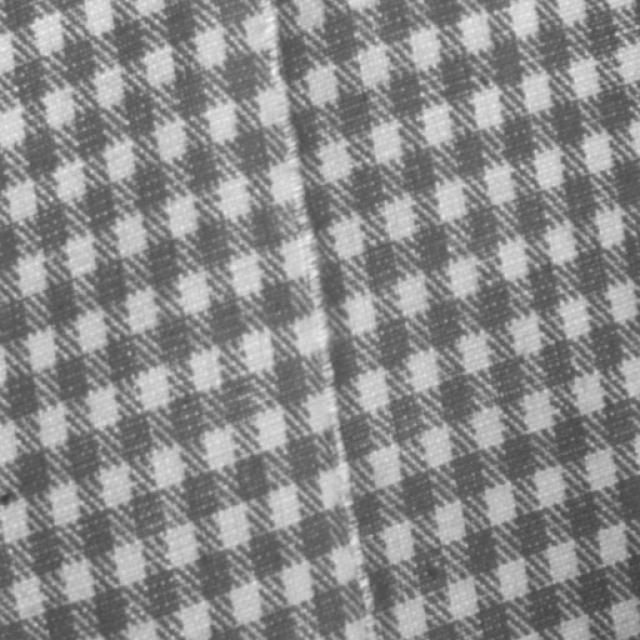Thread-Defect: (258, 5, 384, 639)
